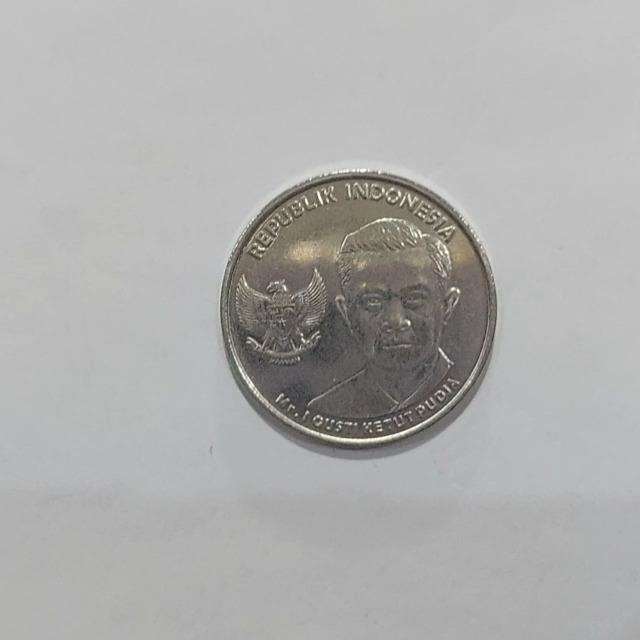Rp100: (219, 167, 498, 450)
